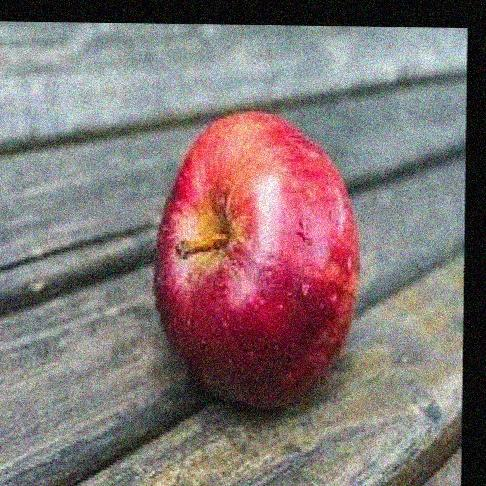red apple: (153, 104, 362, 412)
